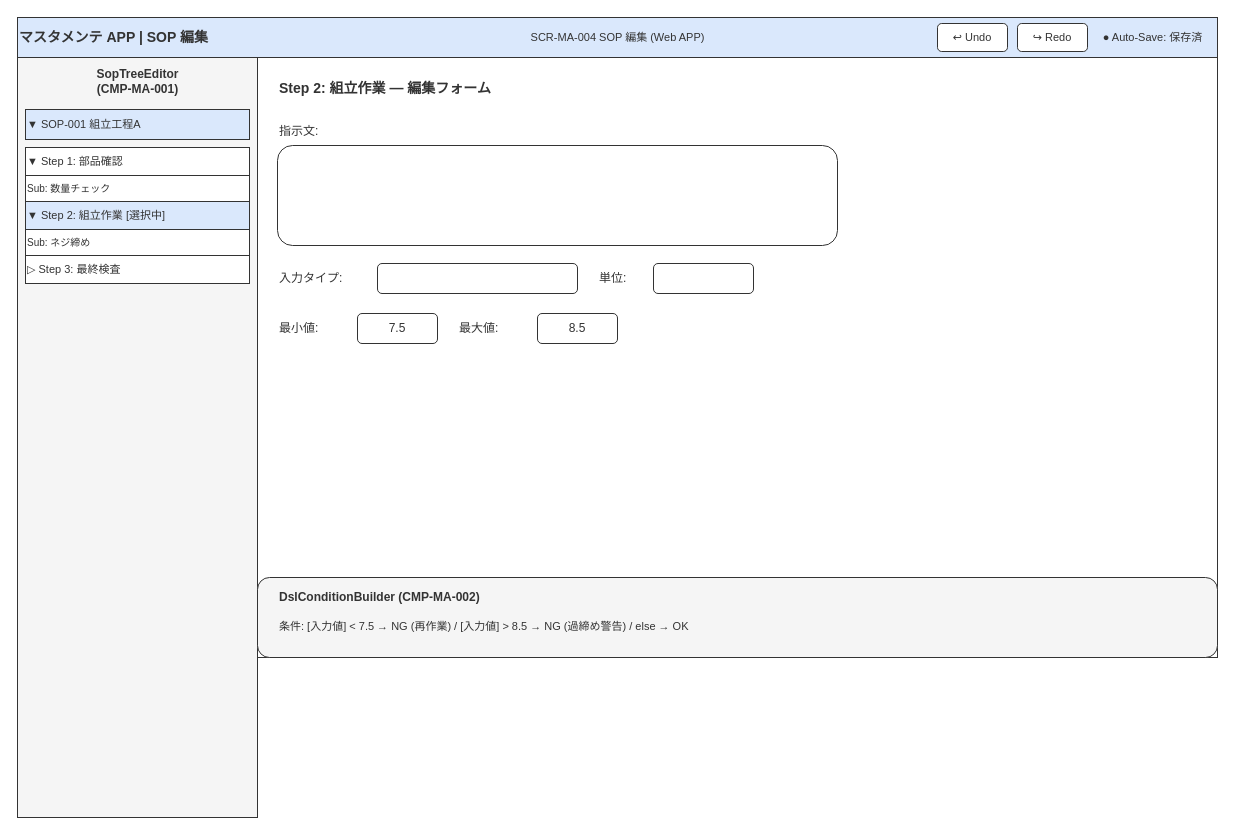
The diagram is 1235 pixels wide and 835 high, and some of its shapes have lost their labels. The shapes that lost their labels are listed below. From the top down, each one's centre as x and y in pixels, then its label:
pixel 557 195: 指定されたトルク値 (8.0 N·m) でネジを 締めてください。過締めに注意すること。
pixel 477 278: 数値入力 ▼
pixel 703 278: N·m
